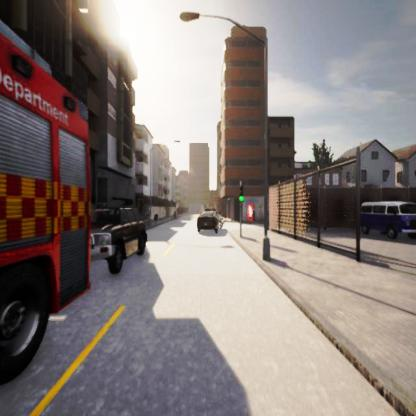vehicle: (0, 7, 98, 384), (92, 207, 148, 259), (360, 200, 416, 240), (196, 210, 222, 234)
